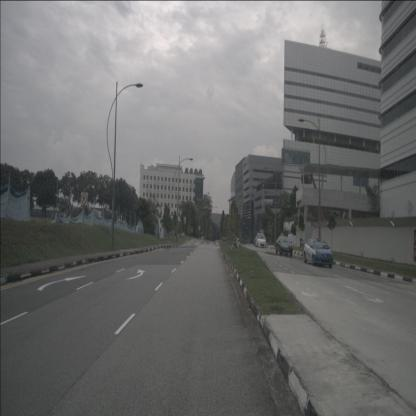vehicle-car: (303, 238, 334, 269), (275, 236, 293, 256), (255, 233, 267, 248)
